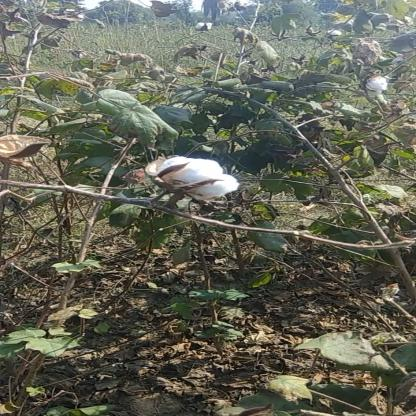cotton_ready: (139, 151, 251, 217)
